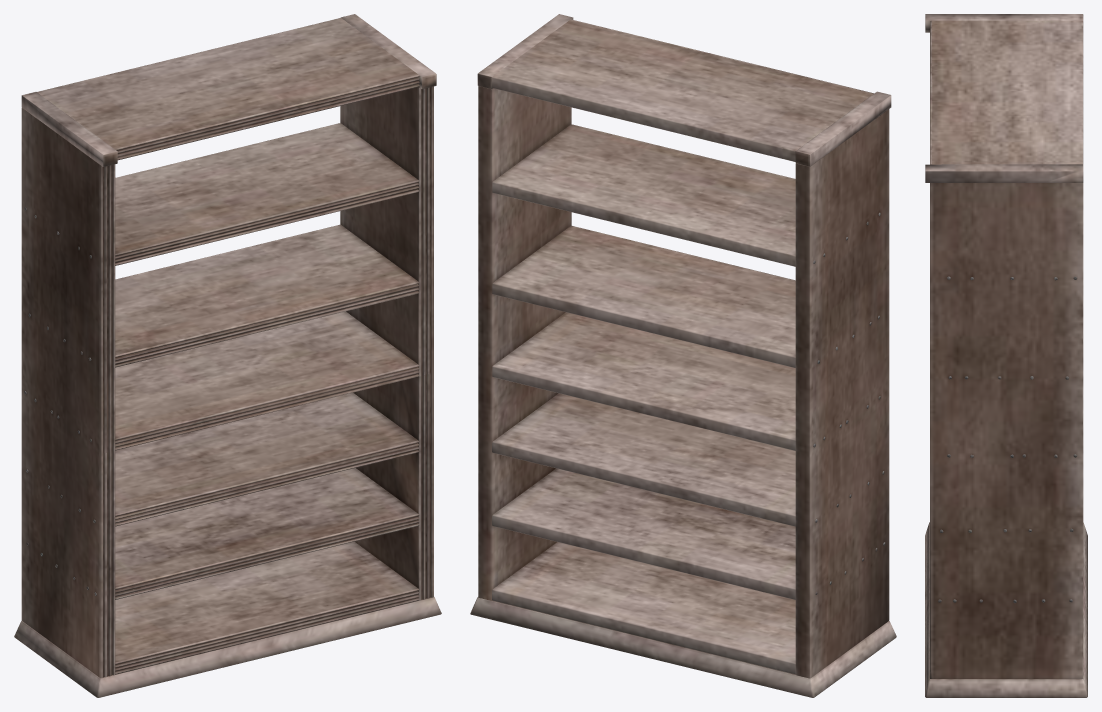
The model's file is wooden_bookshelf_worn.glb.
3 views of the same model, side by side, from view 1: azimuth 30°, elevation 25°; view 2: azimuth 150°, elevation 25°; view 3: azimuth 270°, elevation 25° (orthographic). The views are drawn at different scales.
Visible parts, largest first — view 1: wooden_bookshelf_worn; view 2: wooden_bookshelf_worn; view 3: wooden_bookshelf_worn.
Part boxes in pixels (x1,y1,x2,y2): wooden_bookshelf_worn: (14,14,441,697); wooden_bookshelf_worn: (470,14,896,697); wooden_bookshelf_worn: (925,14,1087,697).
Bounding box in the file's own units: 1.37 × 2.06 × 0.5813.
Materials: 1 (1 with a texture image).
